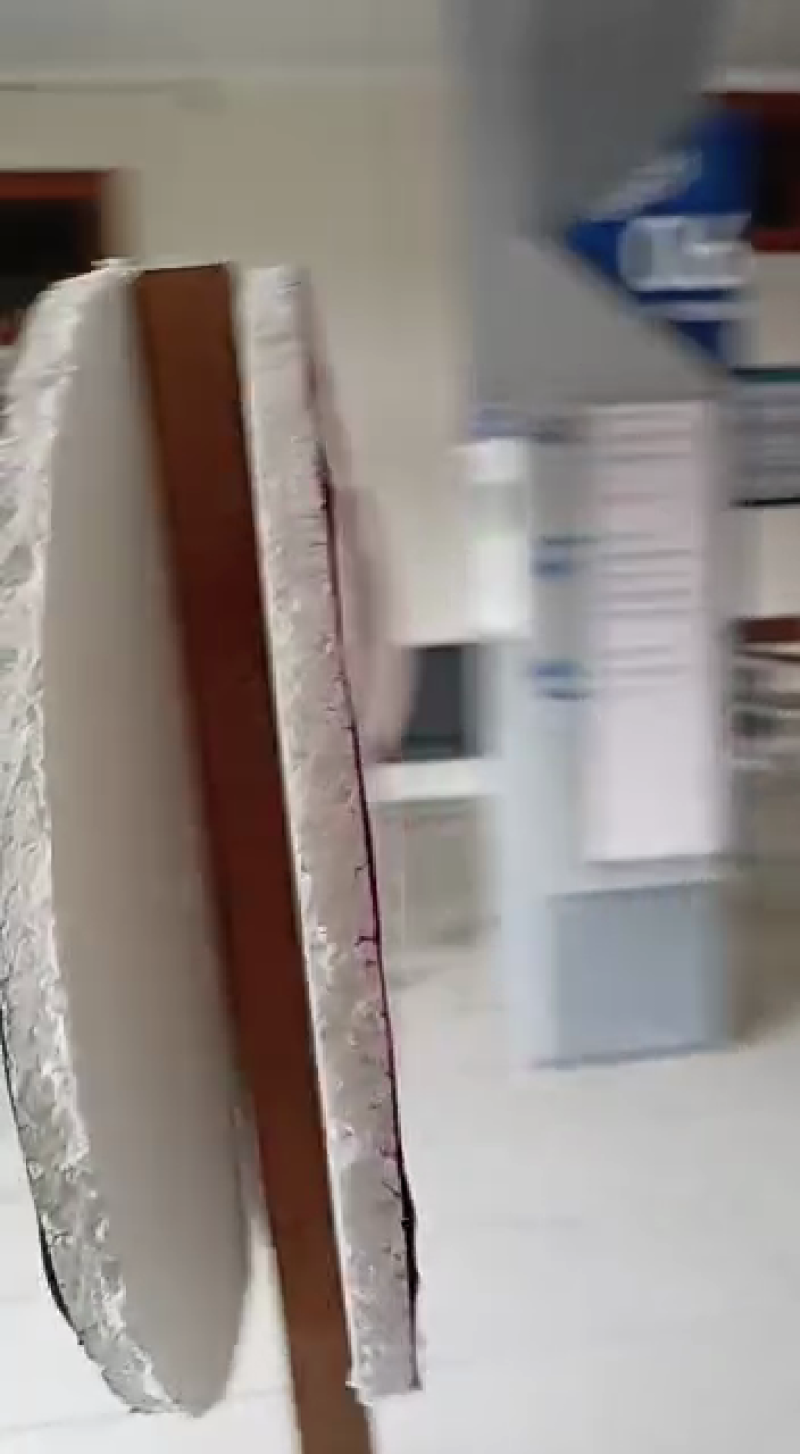batas maksimal 100kmperjam: (231, 224, 461, 1405)
